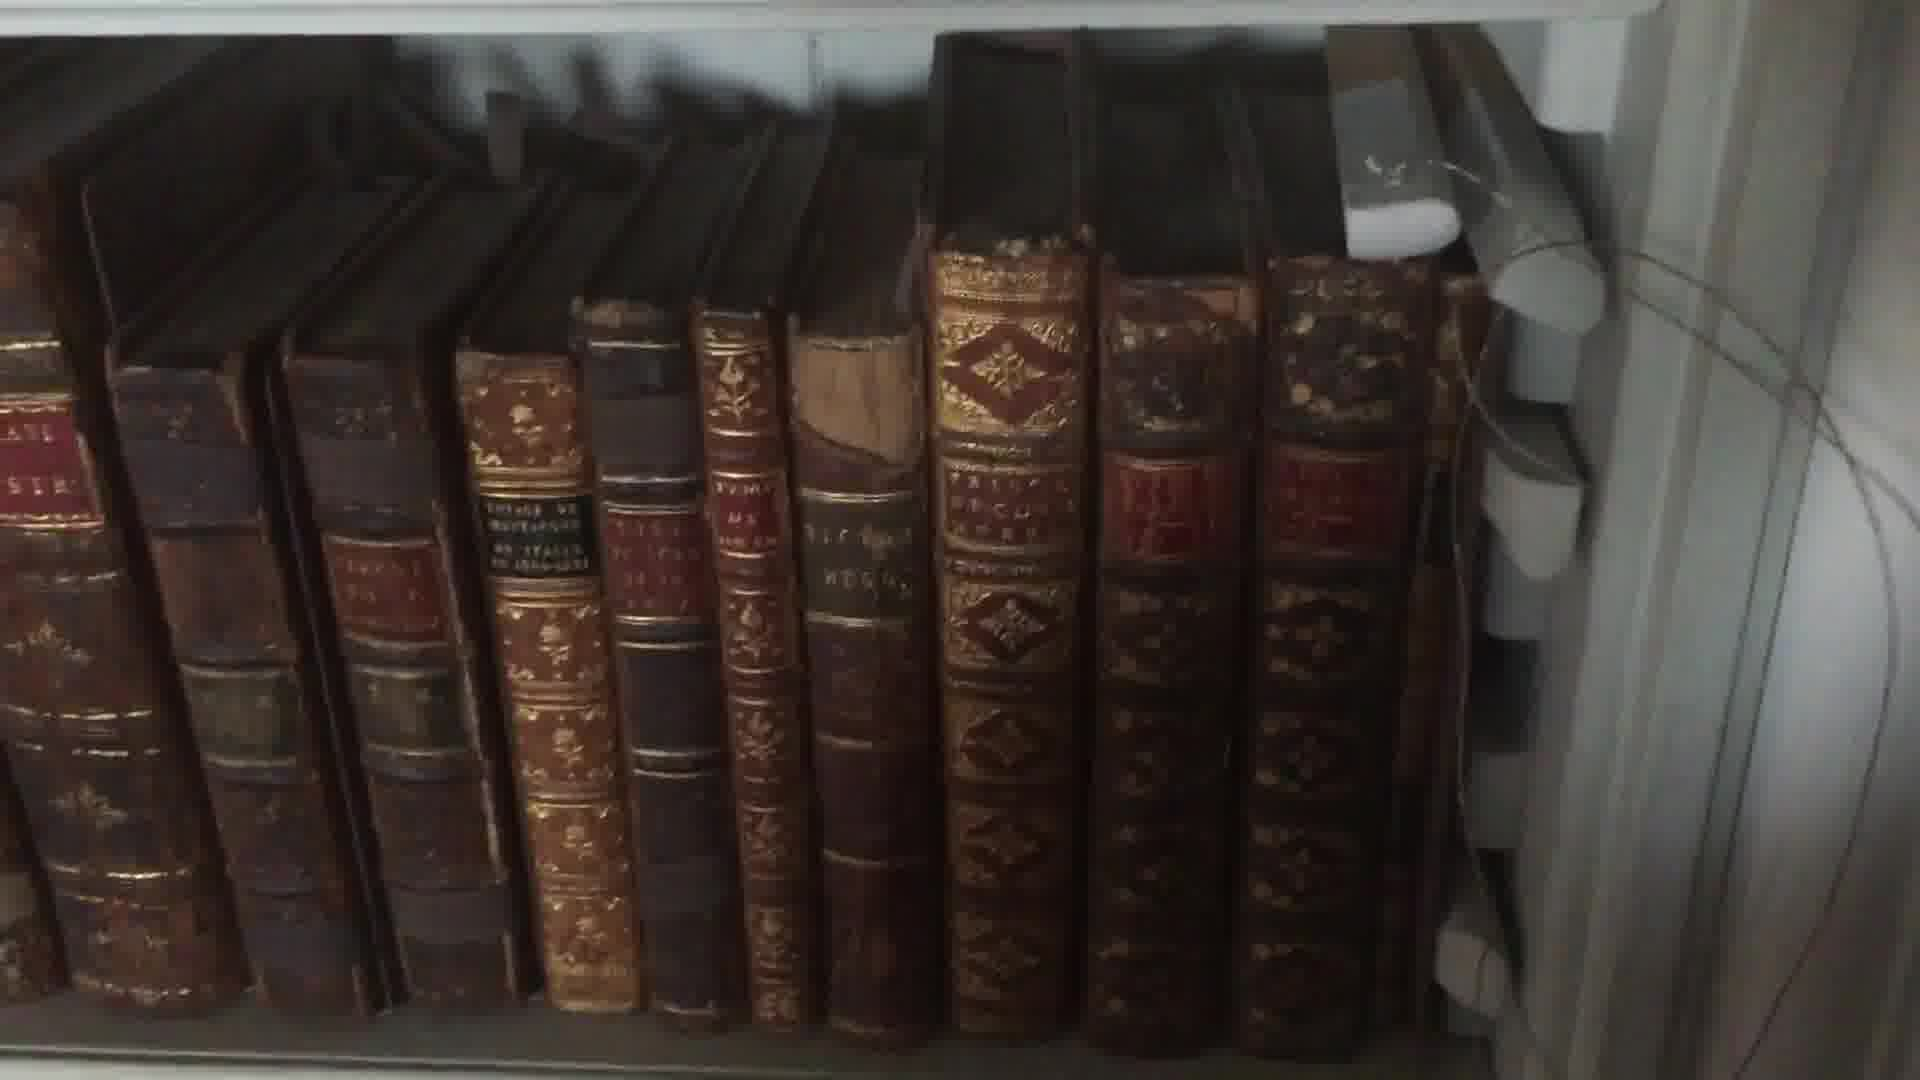Aa6-39_40: (84, 316, 533, 1062)
Aa6-41: (411, 328, 659, 1036)
Aa6-42: (553, 285, 771, 1036)
Aa6-43: (673, 309, 851, 1044)
Aa6-44: (793, 314, 948, 1062)
Aa6-45: (905, 229, 1098, 1051)
Aa6-46-47: (1091, 268, 1431, 1069)
Aa6-48: (1407, 273, 1513, 1080)
